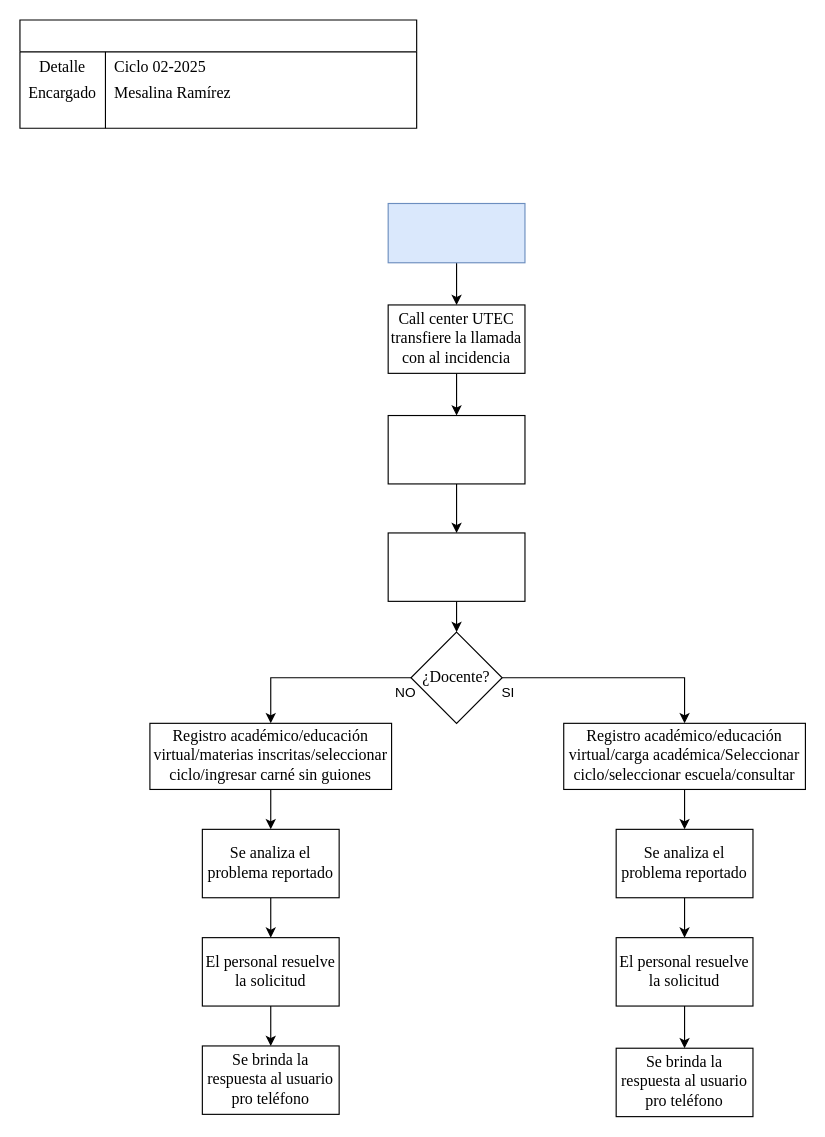
The diagram is 825 pixels wide and 1137 high, and some of its shapes have lost their labels. The shapes that lost their labels are listed below. From the top down, each one's box as (x1, y1, x2, y2) in pixels, then its label:
(19, 19, 417, 128): Soporte a consultas: personal, e-mail, llamadas telefónicas
(387, 202, 525, 263): Atención Telefónica
(387, 414, 525, 484): El personal de UtecVirtual recibe la información
(387, 532, 525, 601): Verifica la identidad del usuario (carné o usuario docente)
